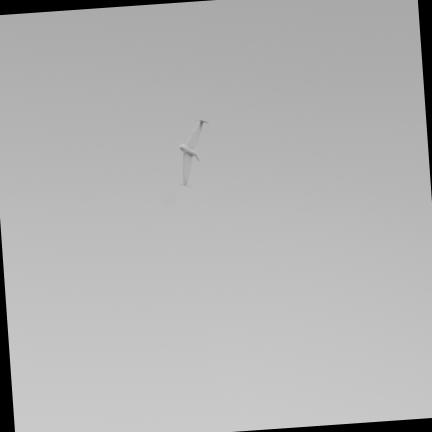Shahed: (179, 119, 208, 185)
